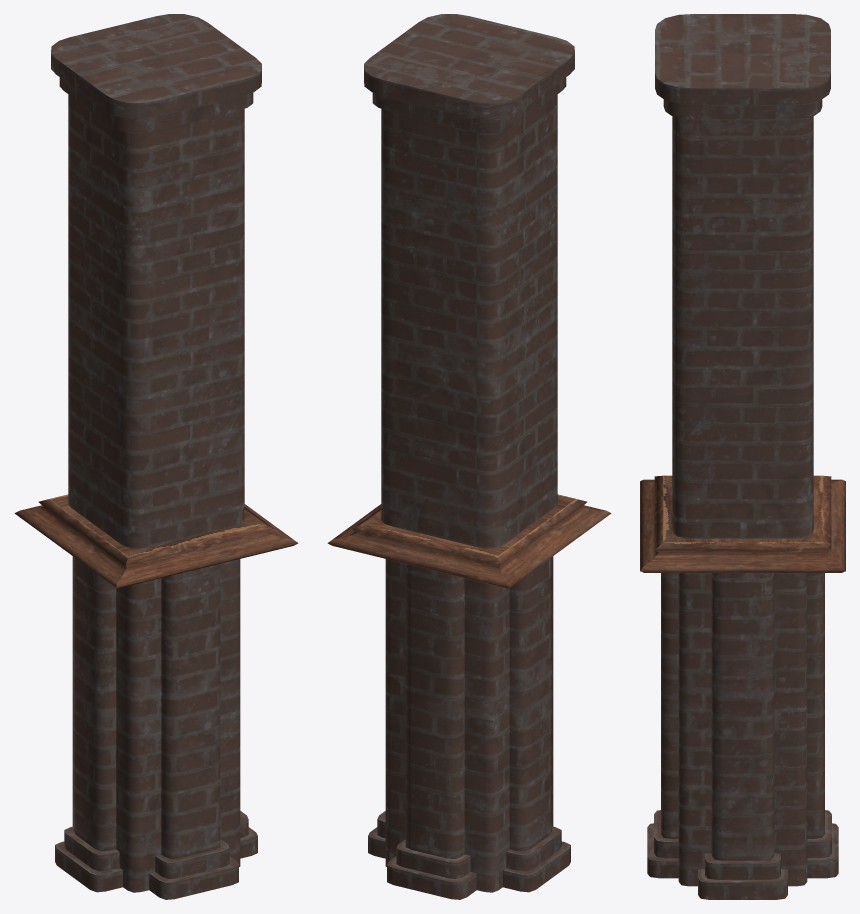
File: Kit_BricksBigColon.fbx
The picture shows the model from 3 angles, left to right: view 1: azimuth 30°, elevation 25°; view 2: azimuth 150°, elevation 25°; view 3: azimuth 270°, elevation 25°; orthographic projection.
Visible parts, largest first — view 1: Kit_BricksBigColon; view 2: Kit_BricksBigColon; view 3: Kit_BricksBigColon.
Part boxes in pixels (bbox=[...]): Kit_BricksBigColon: bbox=[14, 14, 298, 899]; Kit_BricksBigColon: bbox=[327, 14, 611, 899]; Kit_BricksBigColon: bbox=[640, 14, 845, 899].
Bounding box in the file's own units: 37.65 × 157 × 36.34.
